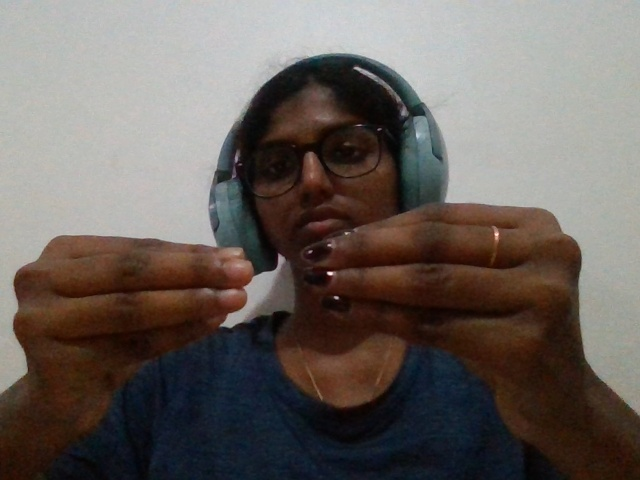More: (7, 173, 613, 478)
